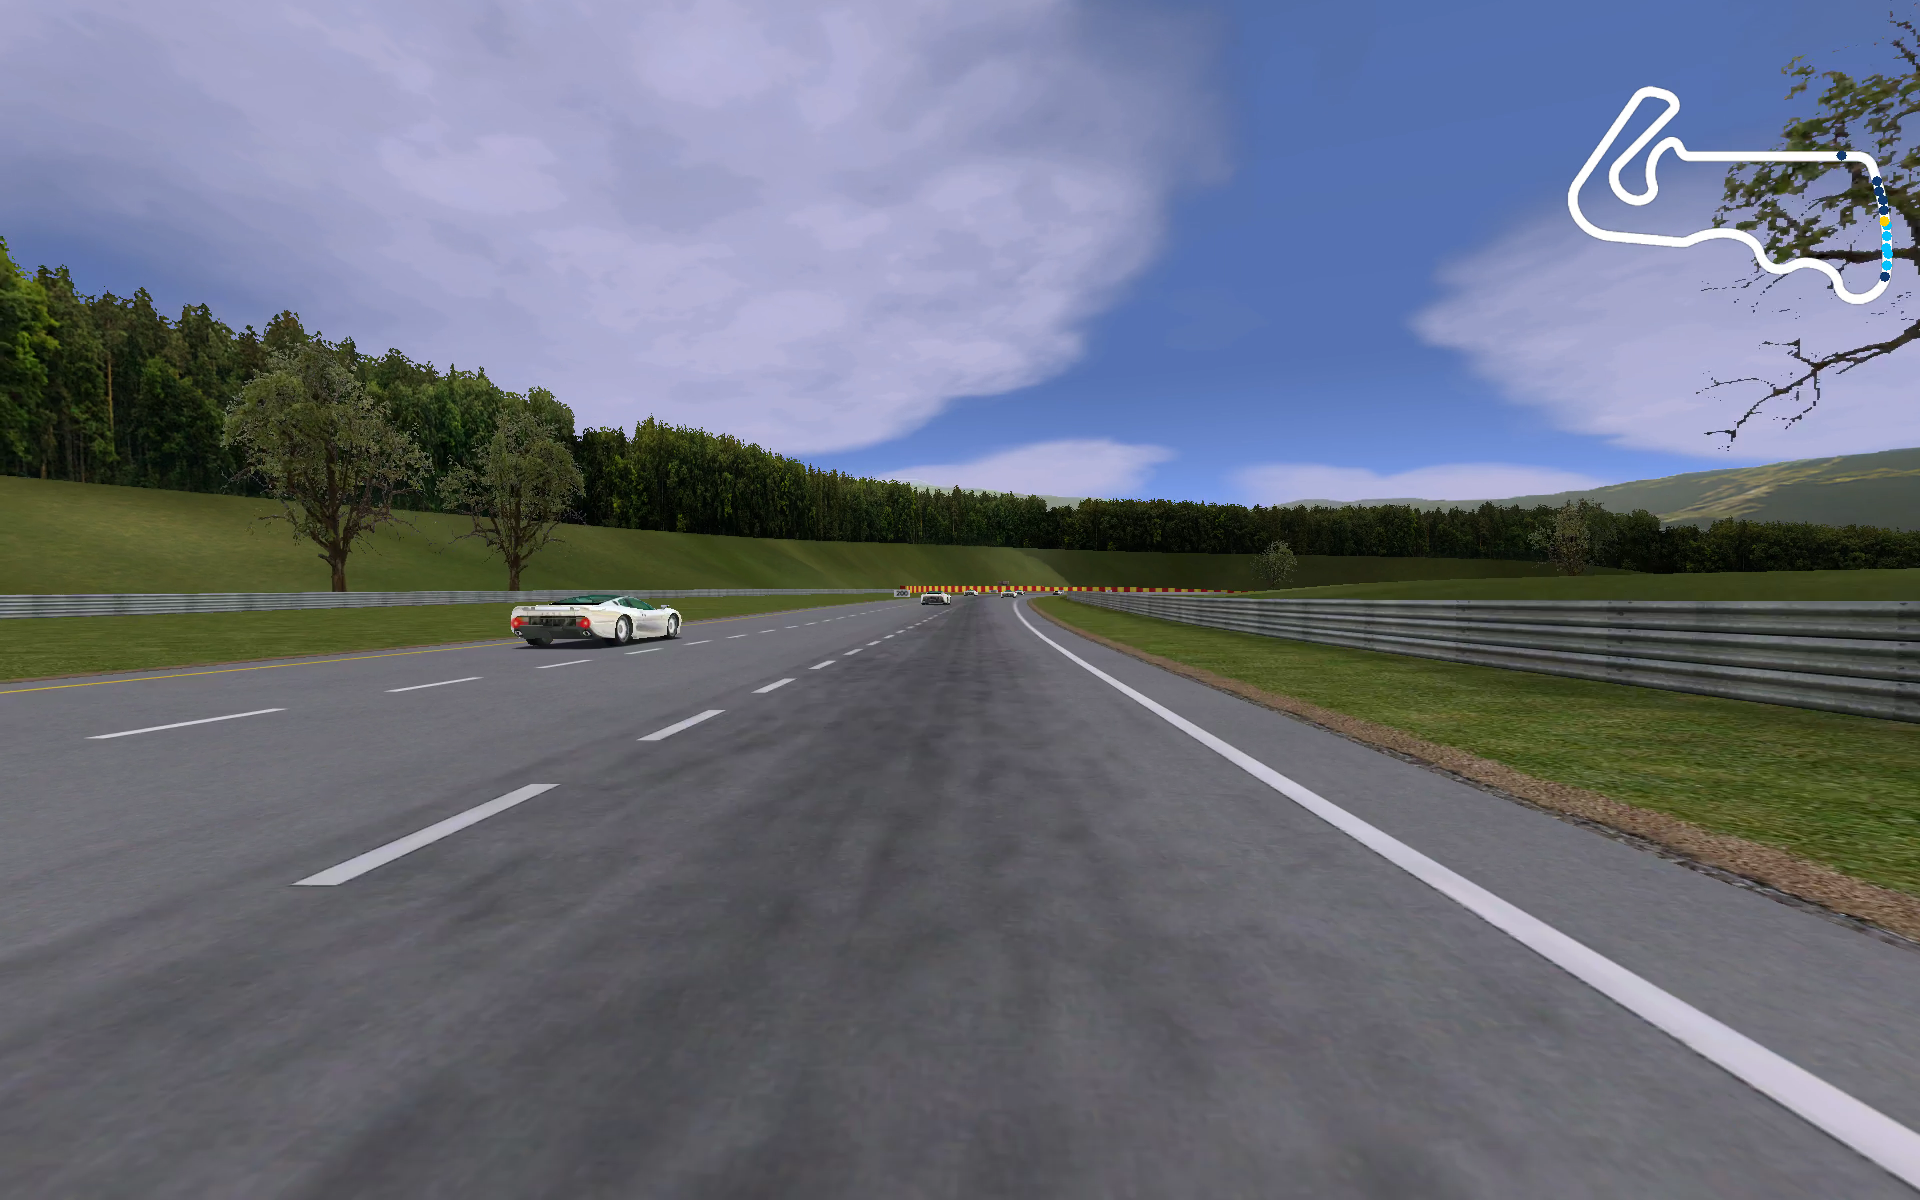car: (507, 588, 687, 648), (916, 588, 955, 610), (961, 586, 981, 599), (998, 590, 1016, 601), (1016, 588, 1027, 597)
